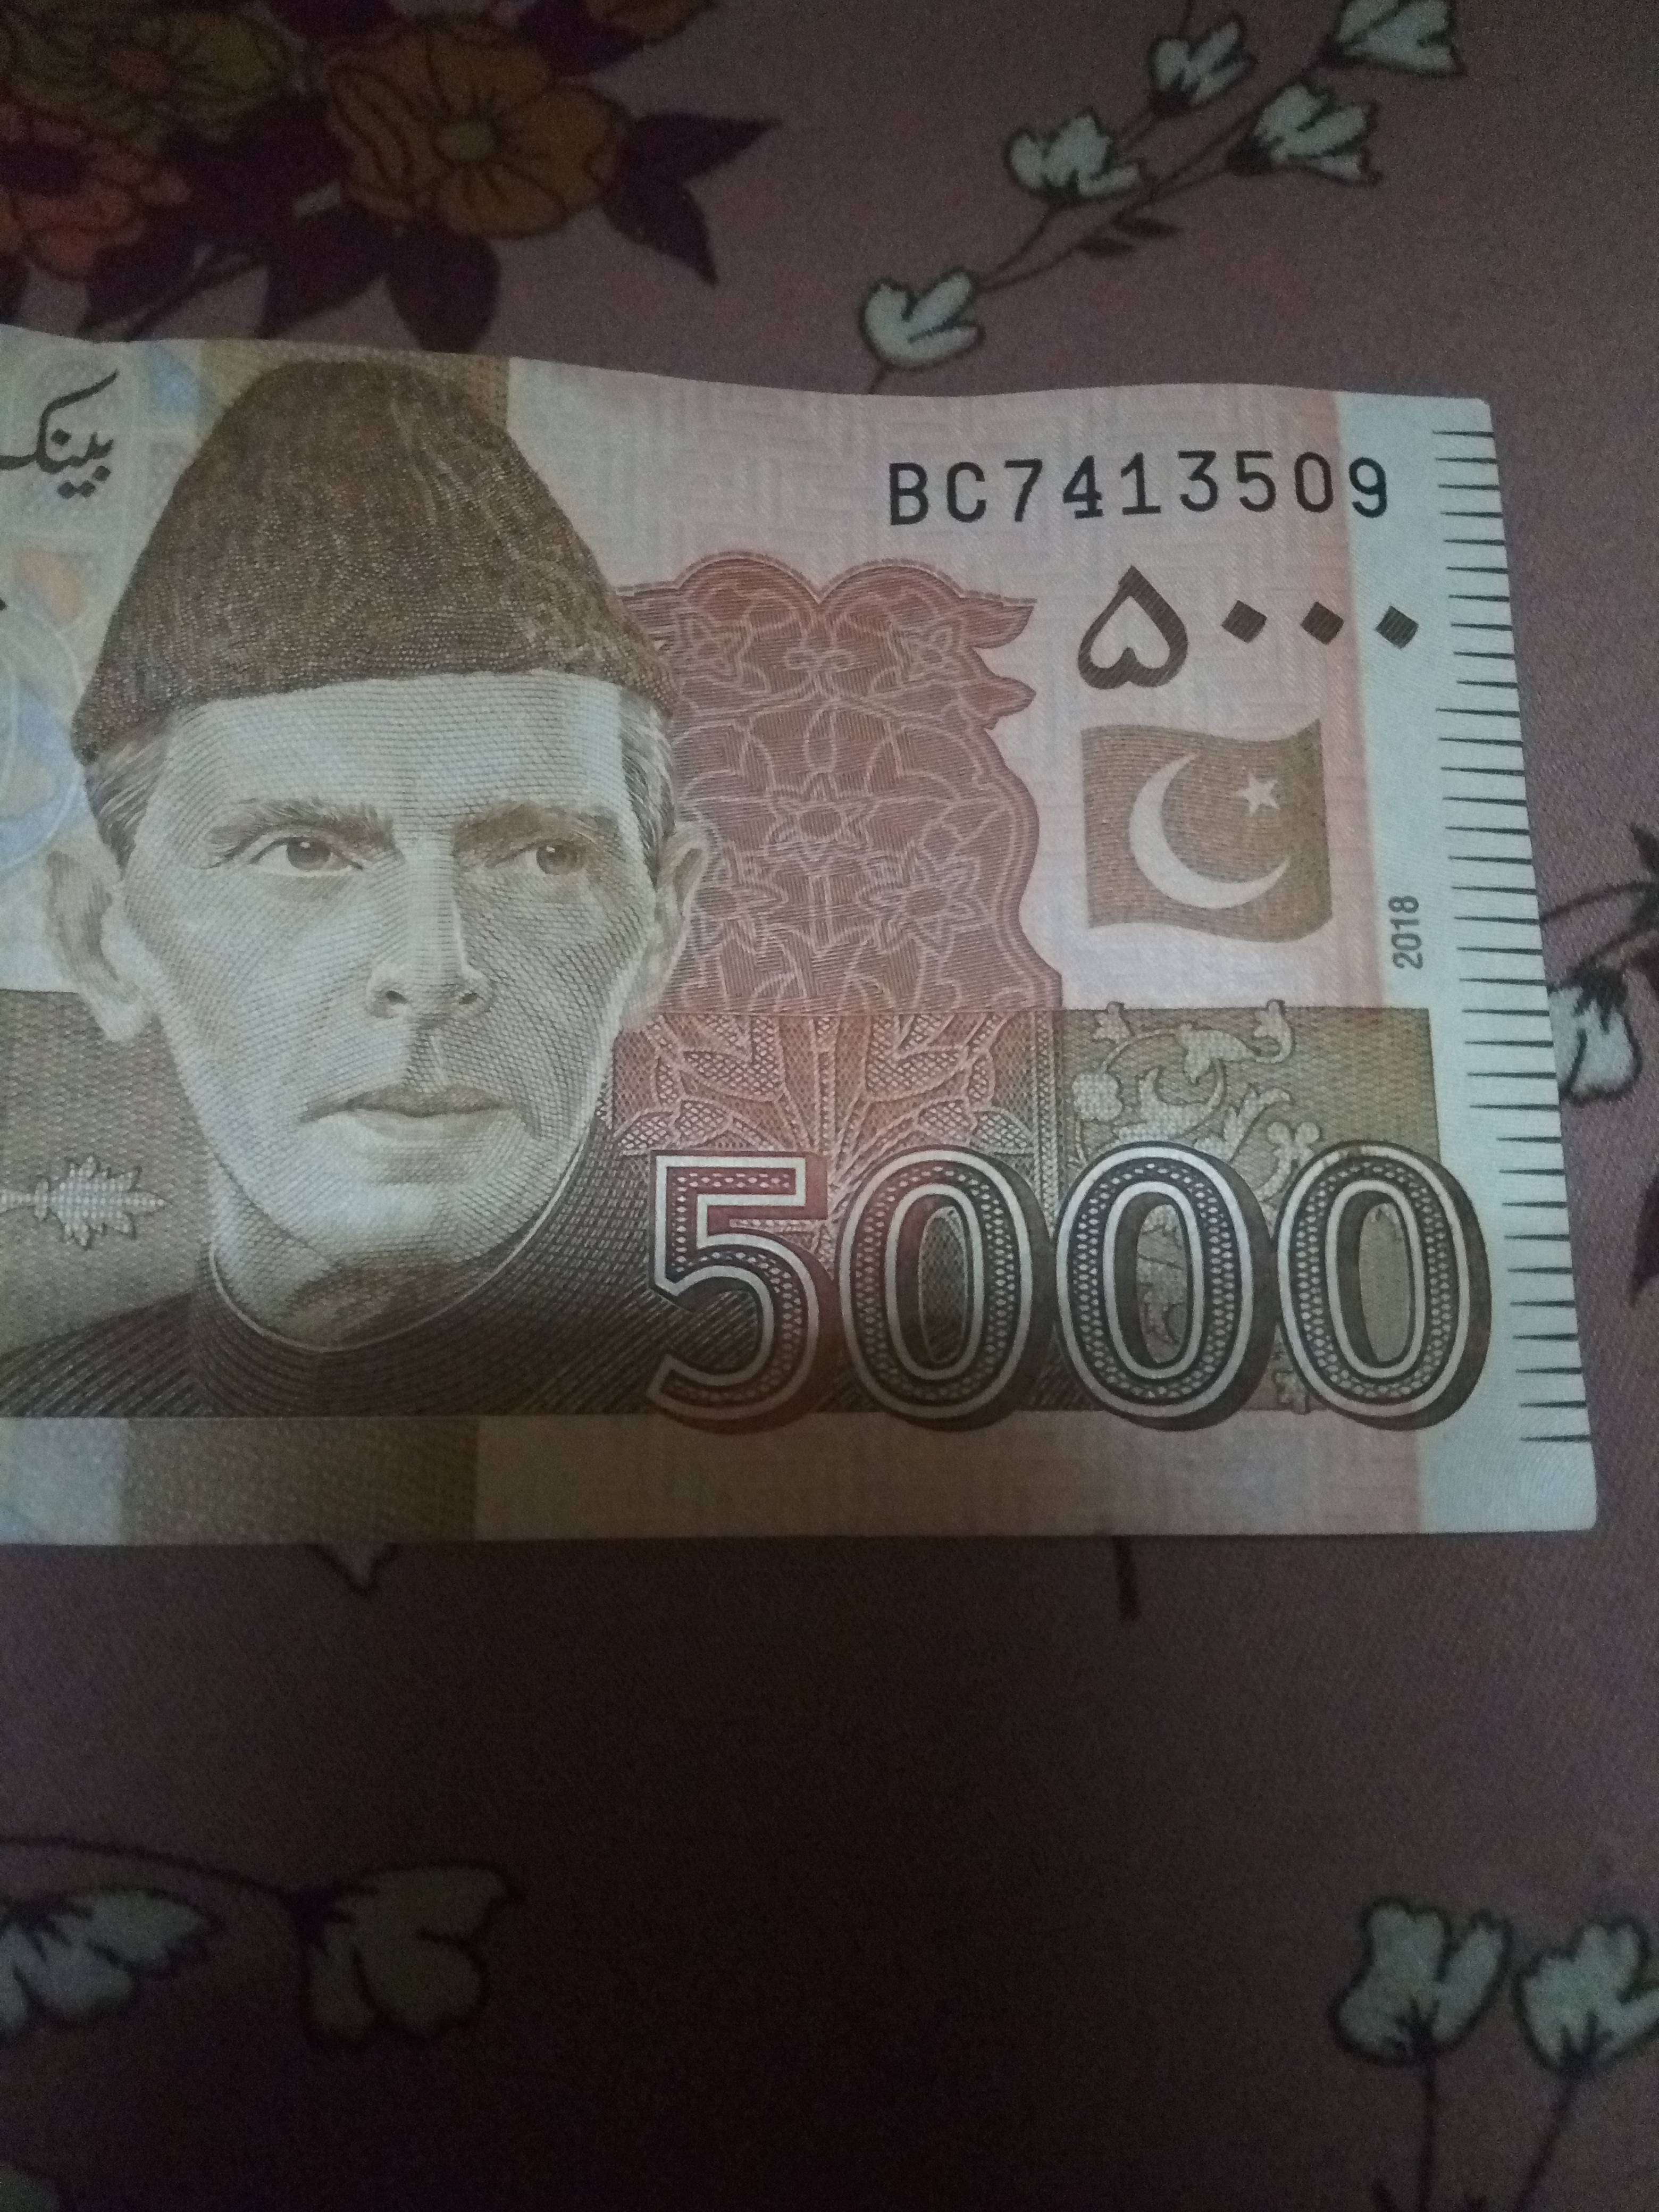5000 rupee: (10, 326, 1629, 1803), (552, 1068, 1540, 1507)
